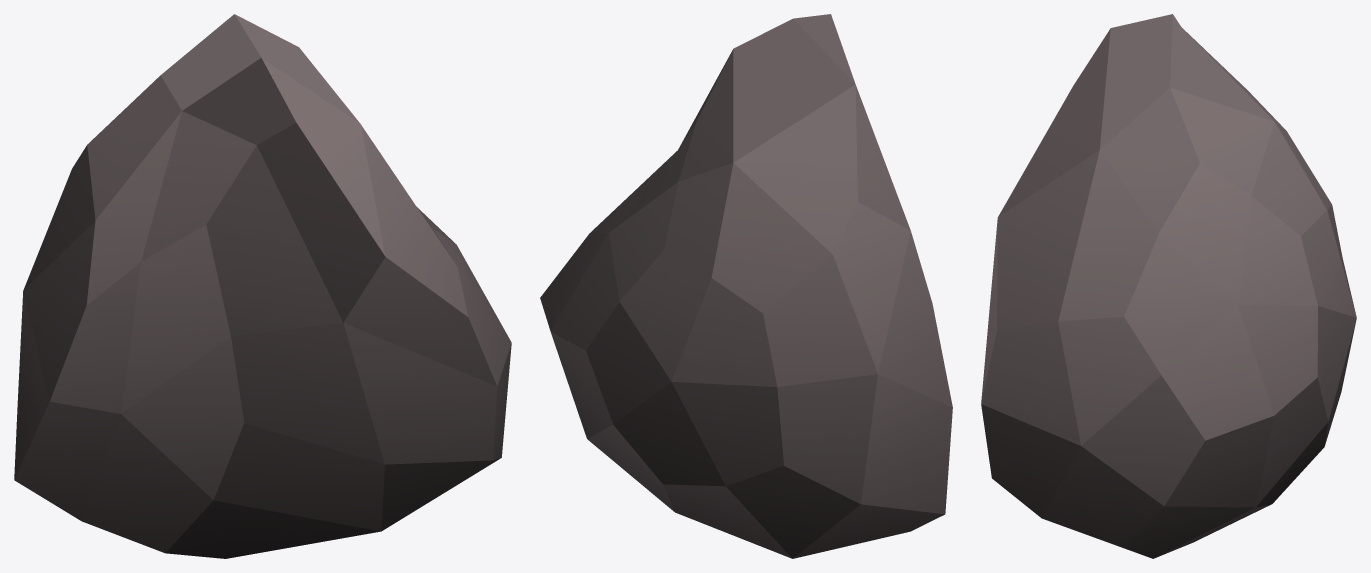
Rendered from Asteroid_4.fbx.
3 renders of one model, left to right at view 1: azimuth 30°, elevation 25°; view 2: azimuth 150°, elevation 25°; view 3: azimuth 270°, elevation 25°, orthographic. The views are drawn at different scales.
Visible parts, largest first — view 1: Asteroid_4; view 2: Asteroid_4; view 3: Asteroid_4.
Part boxes in pixels (<box>): Asteroid_4: <box>14,14,511,558</box>; Asteroid_4: <box>540,14,952,558</box>; Asteroid_4: <box>981,14,1356,558</box>.
Size of the model in its own units: 284 by 339 by 228.
Materials: 1 (1 with a texture image).
